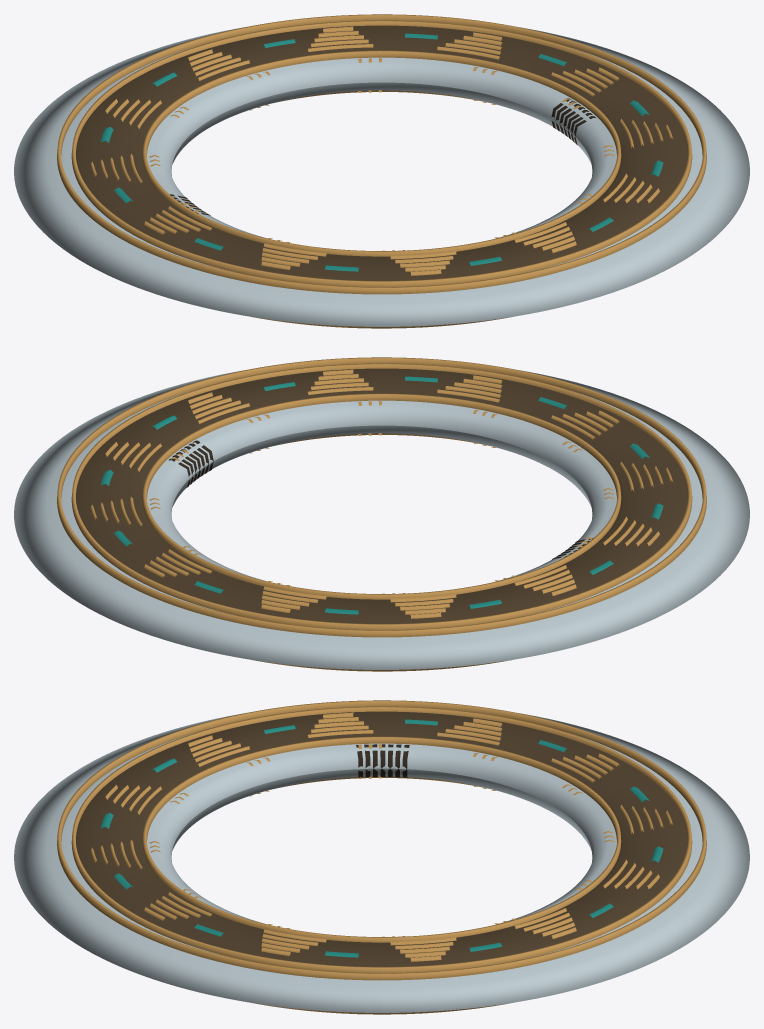
The model's file is sunskipper-chakram.glb.
3 renders of one model, top to bottom at view 1: azimuth 30°, elevation 25°; view 2: azimuth 150°, elevation 25°; view 3: azimuth 270°, elevation 25°, orthographic.
Visible parts, largest first — view 1: Honed moonsteel, Raised warm electrum, Recessed oxidised bronze, Peacock enamel, Bound inner grip; view 2: Honed moonsteel, Raised warm electrum, Recessed oxidised bronze, Peacock enamel, Bound inner grip; view 3: Honed moonsteel, Raised warm electrum, Recessed oxidised bronze, Peacock enamel, Bound inner grip.
Boxes of the visible parts, x1,y1,x2,y2 form: Honed moonsteel: [14, 27, 749, 326]; Raised warm electrum: [57, 14, 706, 328]; Recessed oxidised bronze: [76, 25, 687, 280]; Peacock enamel: [100, 33, 663, 271]; Bound inner grip: [170, 98, 595, 215]; Honed moonsteel: [14, 370, 749, 669]; Raised warm electrum: [57, 357, 706, 671]; Recessed oxidised bronze: [76, 368, 687, 623]; Peacock enamel: [100, 376, 663, 614]; Bound inner grip: [168, 440, 593, 559]; Honed moonsteel: [14, 713, 749, 1012]; Raised warm electrum: [57, 700, 706, 1014]; Recessed oxidised bronze: [76, 711, 687, 966]; Peacock enamel: [100, 719, 663, 957]; Bound inner grip: [356, 744, 409, 777].
Bounding box in the file's own units: 0.602 × 0.0402 × 0.602.
